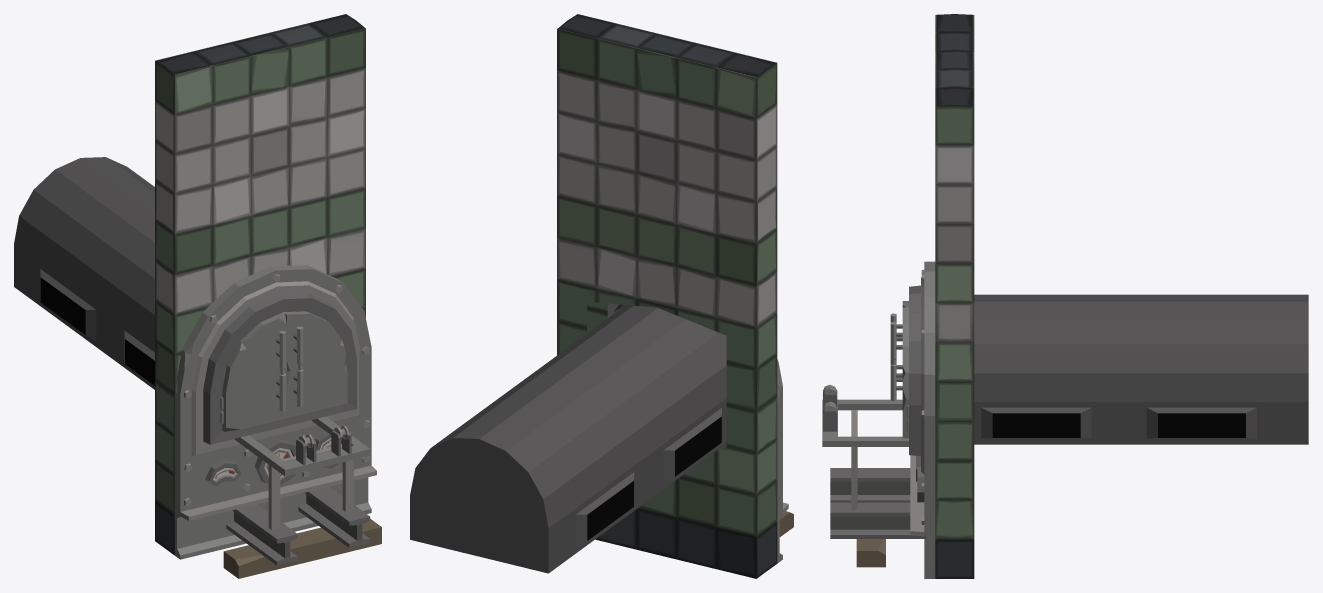
File: SM_Prop_Furnace_02.fbx
The picture shows the model from 3 angles, left to right: view 1: azimuth 30°, elevation 25°; view 2: azimuth 150°, elevation 25°; view 3: azimuth 270°, elevation 25°; orthographic projection. The views are drawn at different scales.
Visible parts, largest first — view 1: SM_Prop_Furnace_02, SM_Prop_Furnace_02_Door_L, SM_Prop_Furnace_02_Door_R; view 2: SM_Prop_Furnace_02; view 3: SM_Prop_Furnace_02, SM_Prop_Furnace_02_Door_R.
Boxes of the visible parts, bbox=[...] form: SM_Prop_Furnace_02: bbox=[14, 14, 381, 578]; SM_Prop_Furnace_02_Door_L: bbox=[220, 312, 286, 431]; SM_Prop_Furnace_02_Door_R: bbox=[283, 311, 347, 418]; SM_Prop_Furnace_02: bbox=[410, 14, 793, 578]; SM_Prop_Furnace_02: bbox=[822, 14, 1308, 578]; SM_Prop_Furnace_02_Door_R: bbox=[890, 307, 908, 438].
Size of the model in its own units: 125 by 301 by 280.
